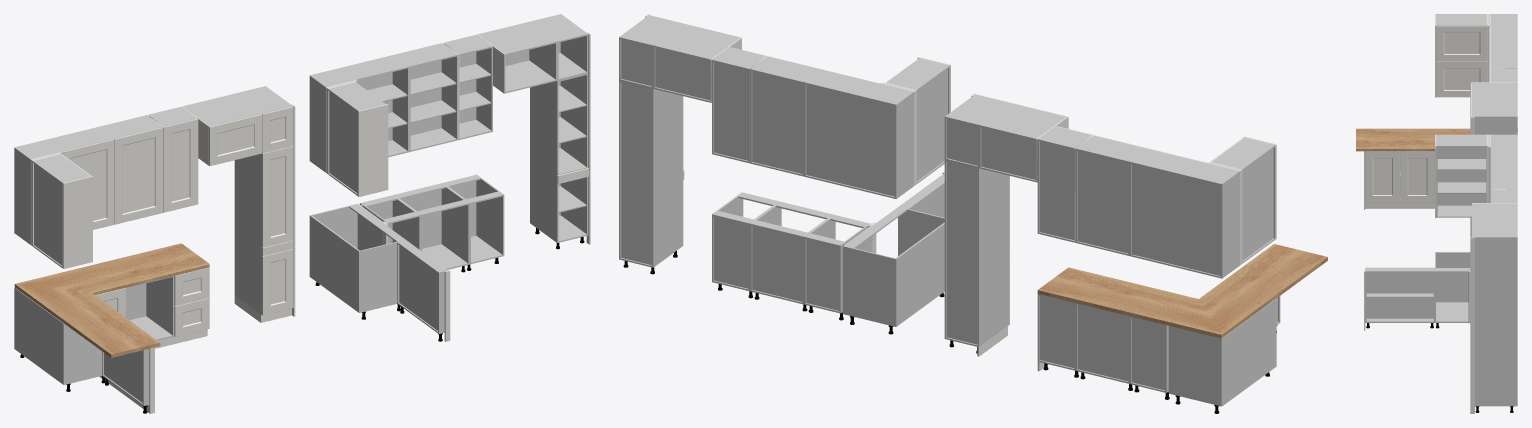
File: shaker.glb
3 views of the same model, side by side, from view 1: azimuth 30°, elevation 25°; view 2: azimuth 150°, elevation 25°; view 3: azimuth 270°, elevation 25° (orthographic). The views are drawn at different scales.
Bounding box in the file's own units: 6.72 × 2.46 × 2.05.
Materials: 4 (1 with a texture image).
